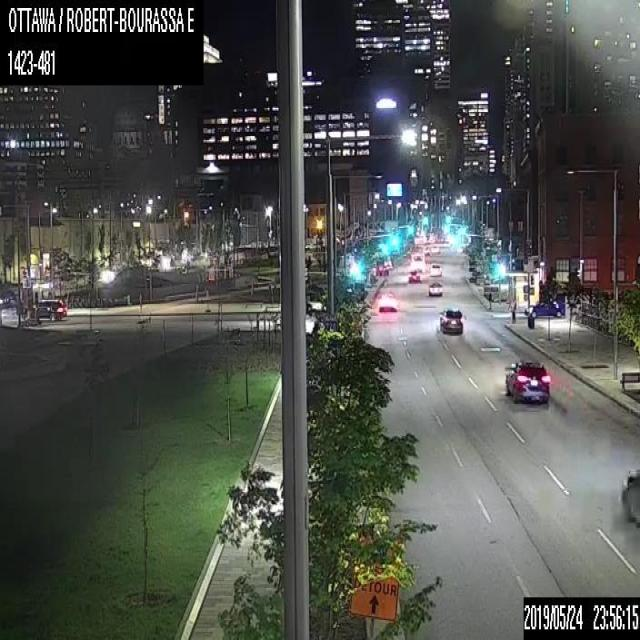construction: (350, 542, 403, 638)
pedestrian: (510, 297, 516, 324), (485, 288, 491, 308)
vehicle: (503, 359, 549, 401), (619, 467, 639, 529), (28, 296, 66, 320), (436, 305, 464, 335), (524, 300, 561, 317), (376, 289, 394, 312), (428, 280, 443, 296), (407, 268, 420, 282), (428, 263, 442, 276)
